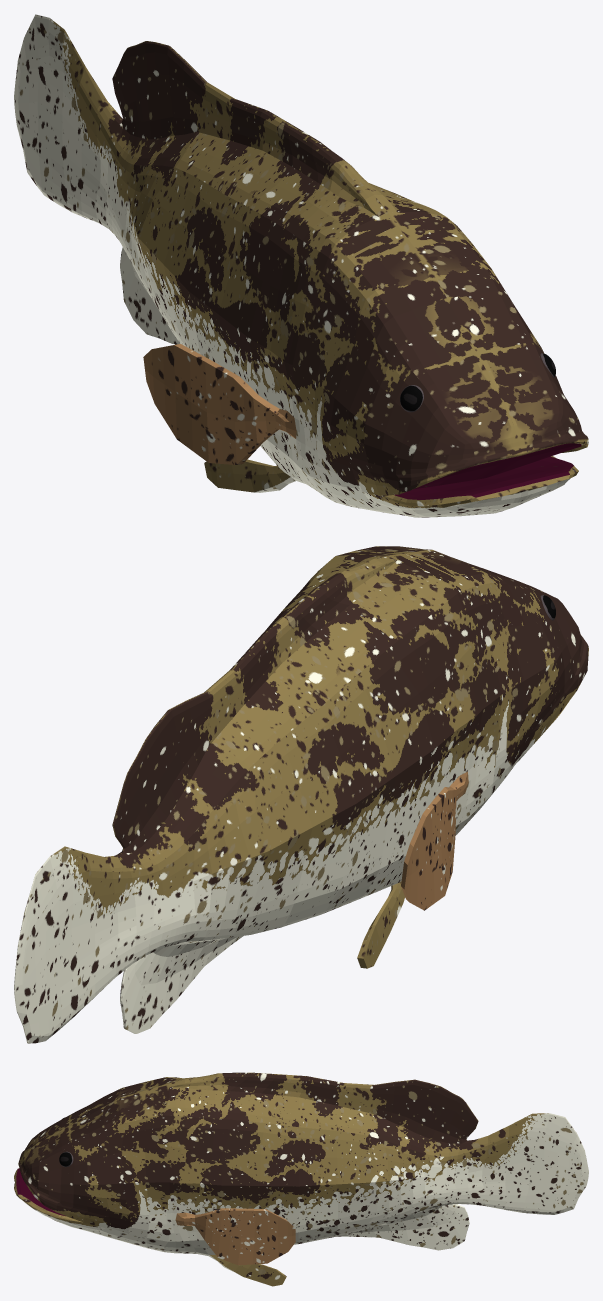
File: grouper-v2.fbx
3 views of the same model, one above another, from view 1: azimuth 30°, elevation 25°; view 2: azimuth 150°, elevation 25°; view 3: azimuth 270°, elevation 25° (orthographic). The views are drawn at different scales.
Parts seen in each view (by area): view 1: Cube; view 2: Cube; view 3: Cube.
Boxes of the visible parts, bbox=[...] form: Cube: bbox=[14, 14, 588, 517]; Cube: bbox=[14, 546, 588, 1043]; Cube: bbox=[14, 1072, 588, 1286].
Size of the model in its own units: 1.43 by 1.78 by 4.8.
2 materials, 2 textured.
